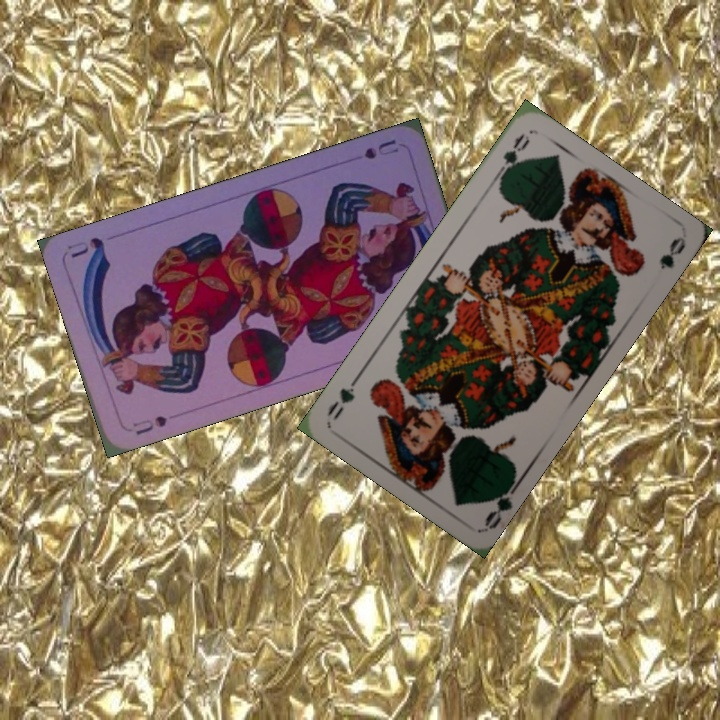GO: (480, 475, 523, 531), (490, 129, 533, 184)
SU: (359, 135, 401, 162), (129, 411, 170, 438)
